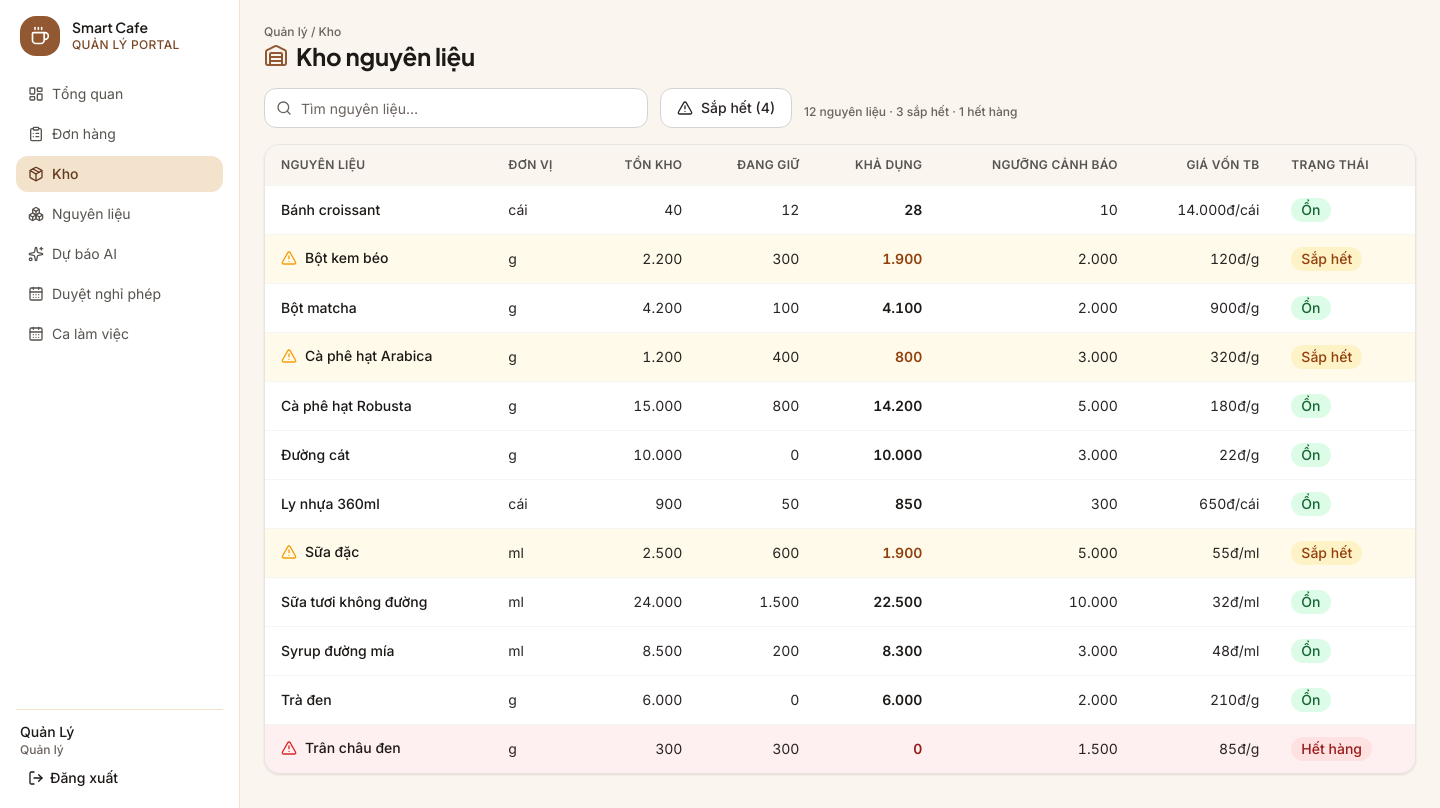
Test: /manager/inventory › lỗi version (409): toast "Dữ liệu đã thay đổi", tải lại tồn kho và không ghi gì
Step 1. Click the button "Cà phê hạt Robusta" → [346, 406], box [281,396,412,416]
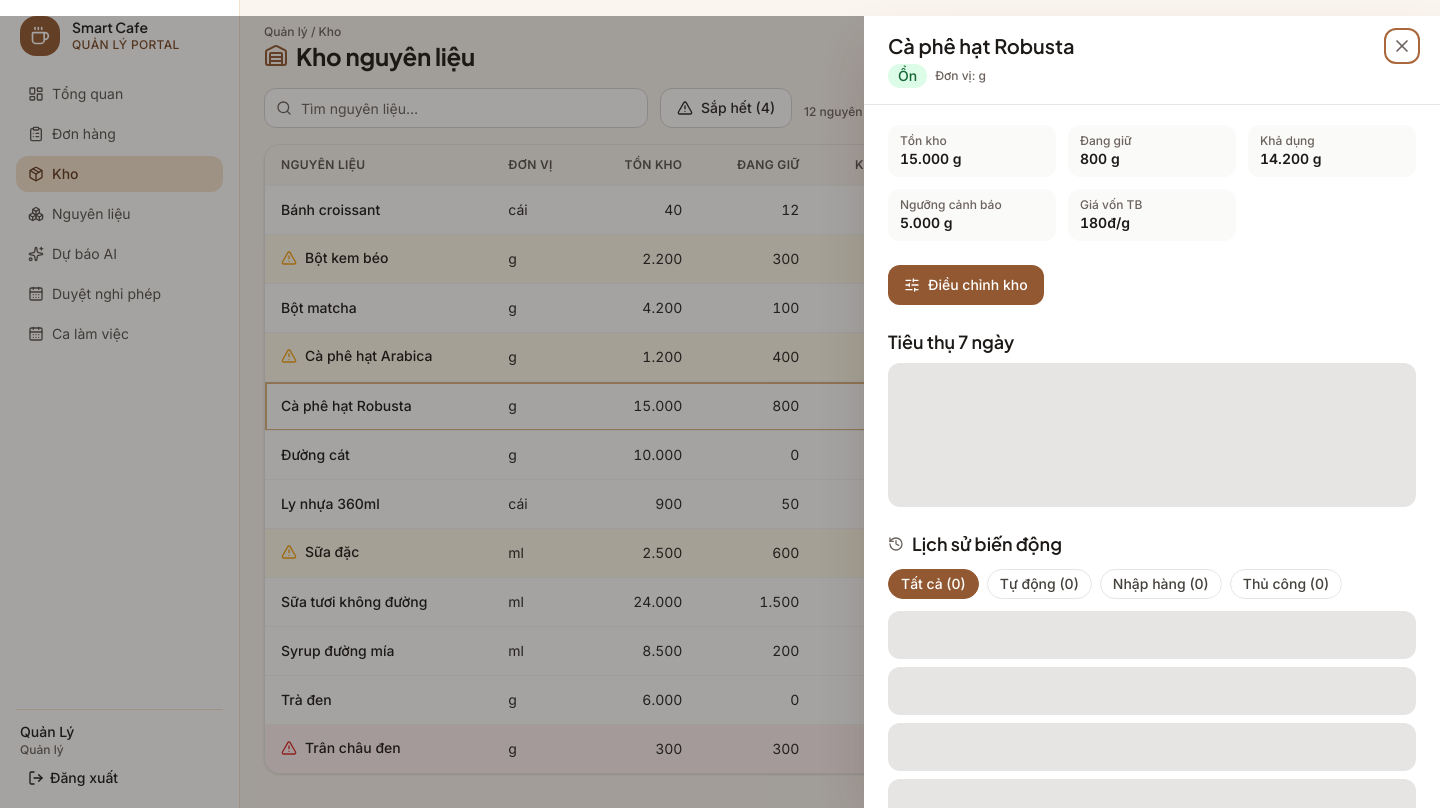
Step 2. Click the button "Điều chỉnh kho" → [966, 285], box [888,265,1044,305]
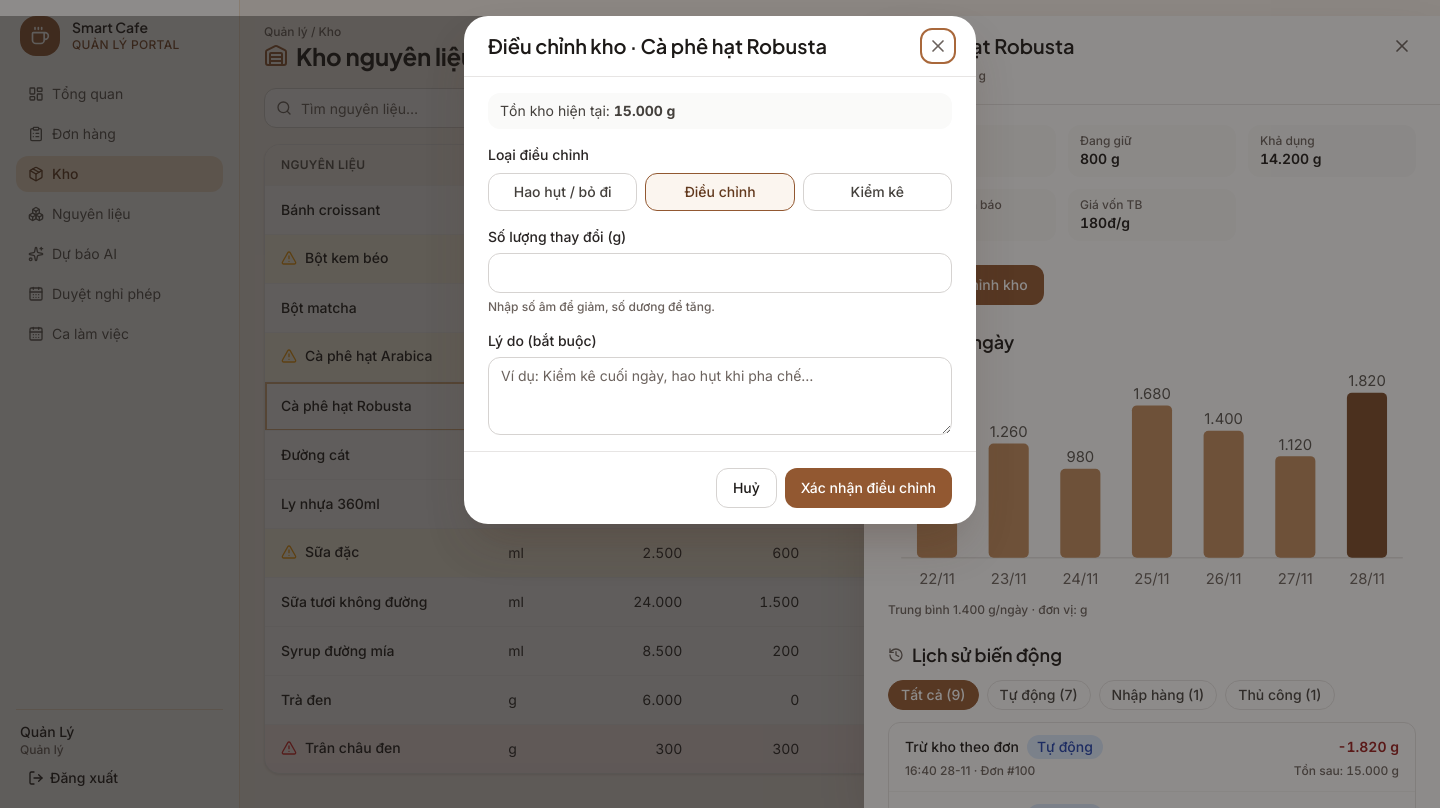
Step 3. Type "-100" into the number field labelled "Số lượng thay đổi (g)" → [720, 273], box [488,253,952,293]
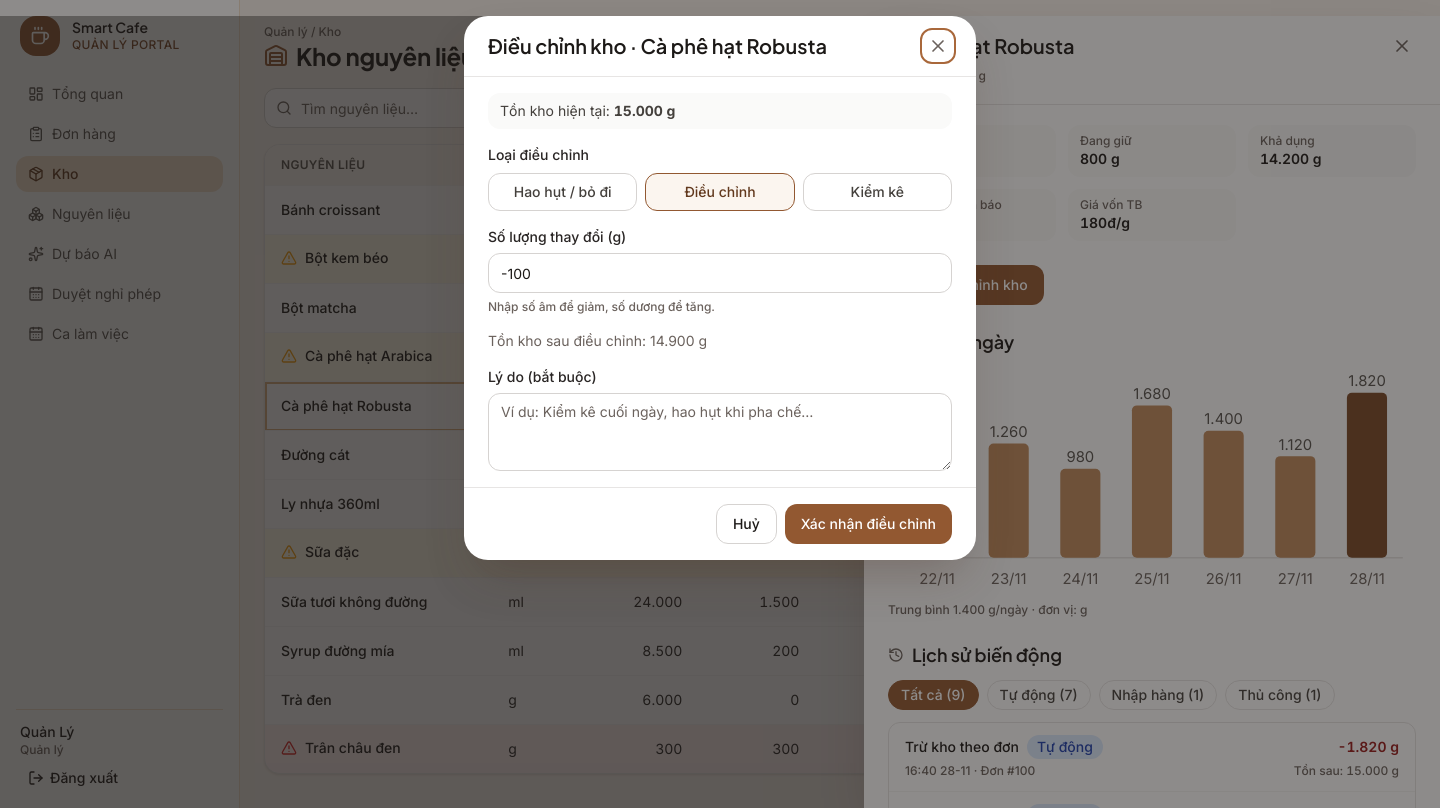
Step 4. Type "Kiểm lại" into the text box labelled "Lý do (bắt buộc)" → [720, 432], box [488,393,952,471]
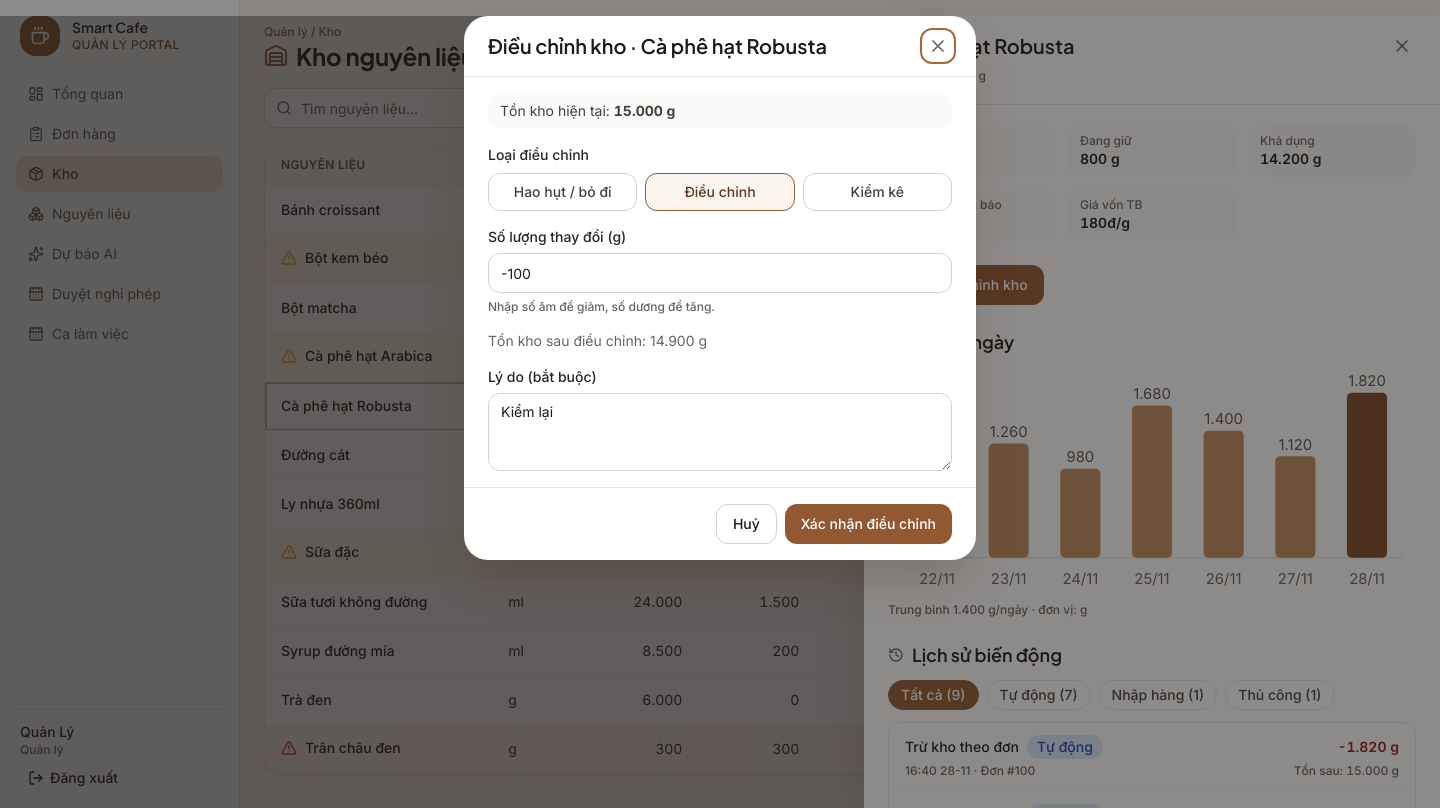
Step 5. Click the button "Xác nhận điều chỉnh" → [868, 524], box [785,504,952,544]
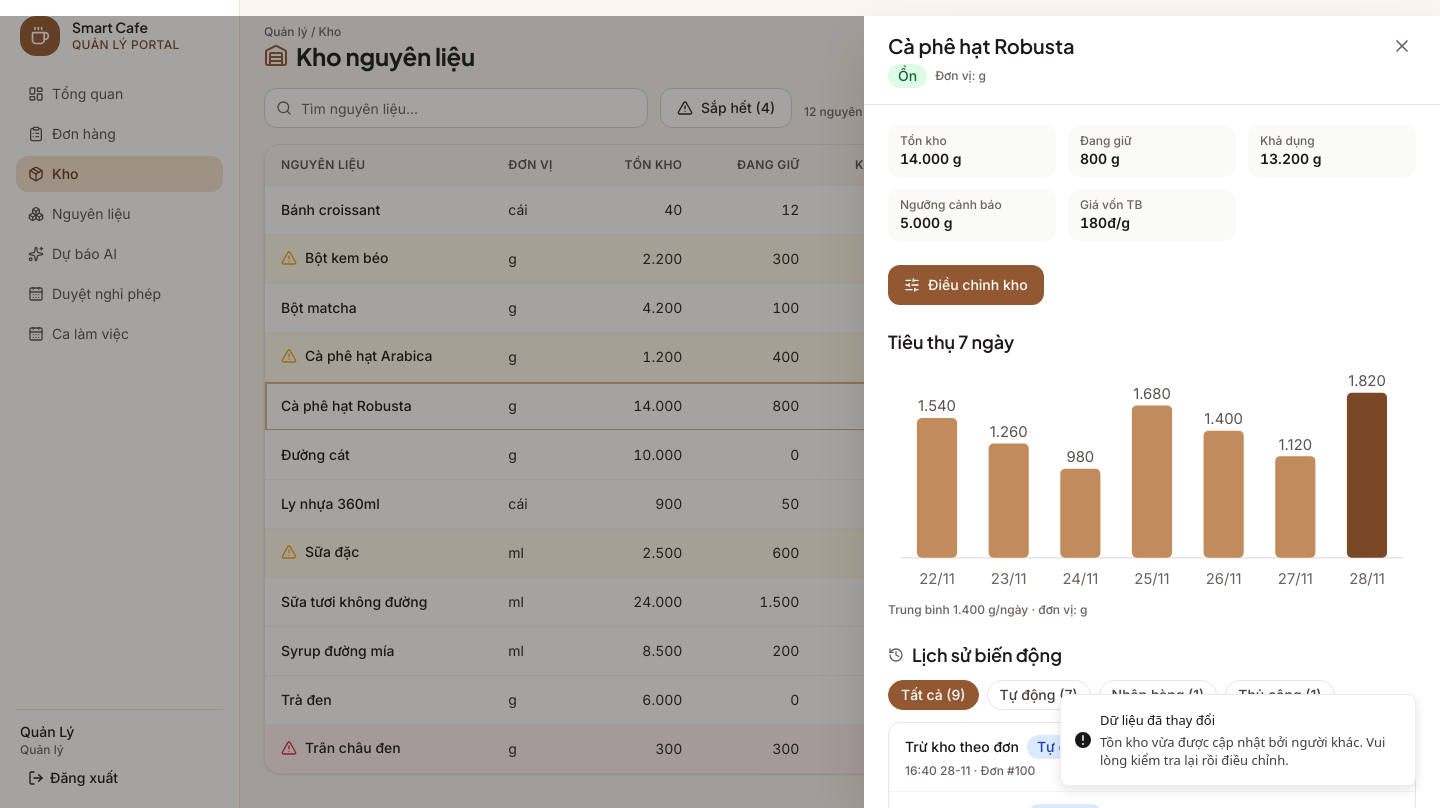
Expected: the text "Dữ liệu đã thay đổi" is shown, [1100,711,1215,729]
Expected: the heading "Điều chỉnh kho · " is gone
Expected: the row "Cà phê hạt Robusta" shows "14.000", [633,397,682,414]
